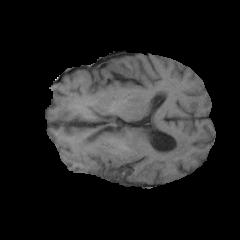glioma: (77, 126, 188, 179)
